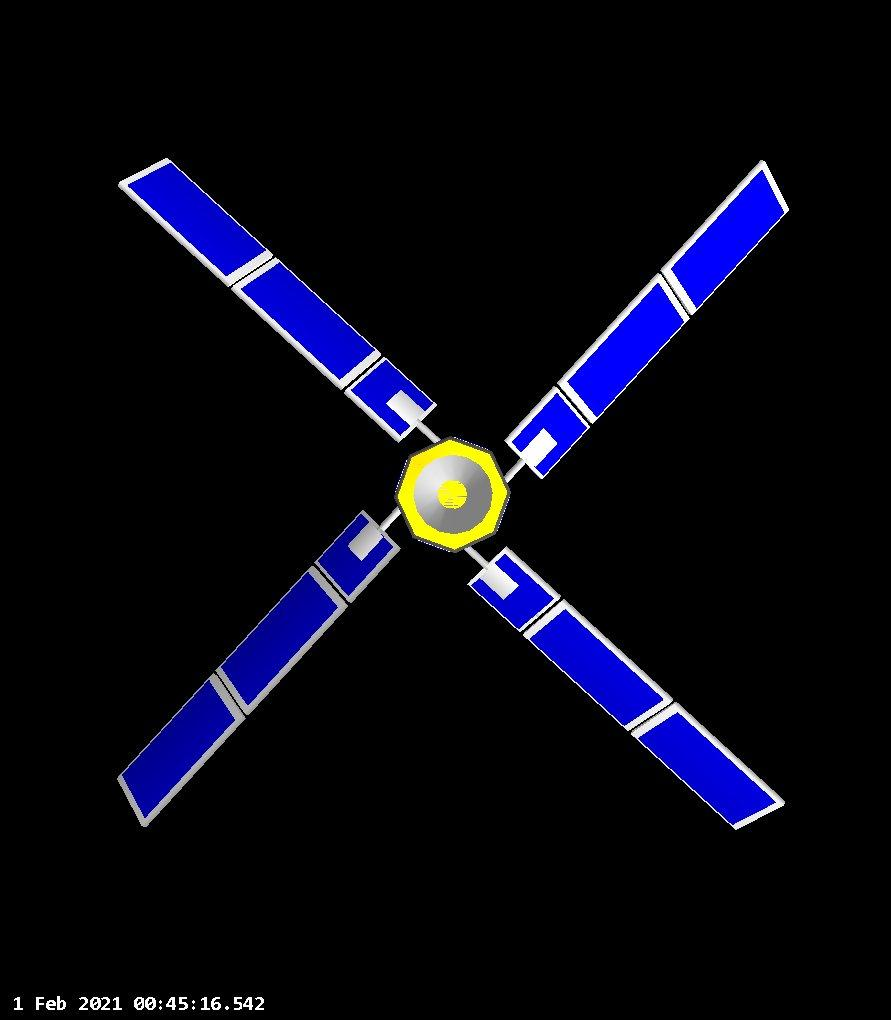body: (393, 435, 513, 555)
solar: (503, 159, 790, 480), (466, 545, 786, 831), (119, 506, 403, 828), (118, 157, 439, 441)
